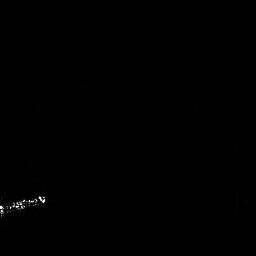ship: (1, 190, 49, 222)
